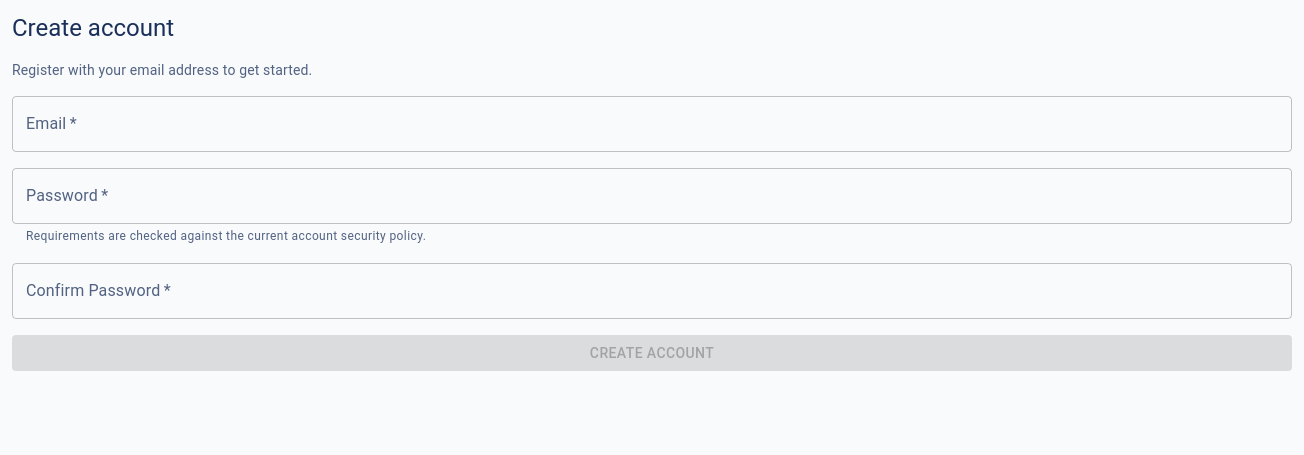
Register › uses the shared safe fallback instead of rendering an unknown technical message
This screenshot has width=1304, height=455.
Type "new@example.com" into the field labelled "Email *" at (652, 124), box top-left (12, 96), bottom-right (1292, 152)
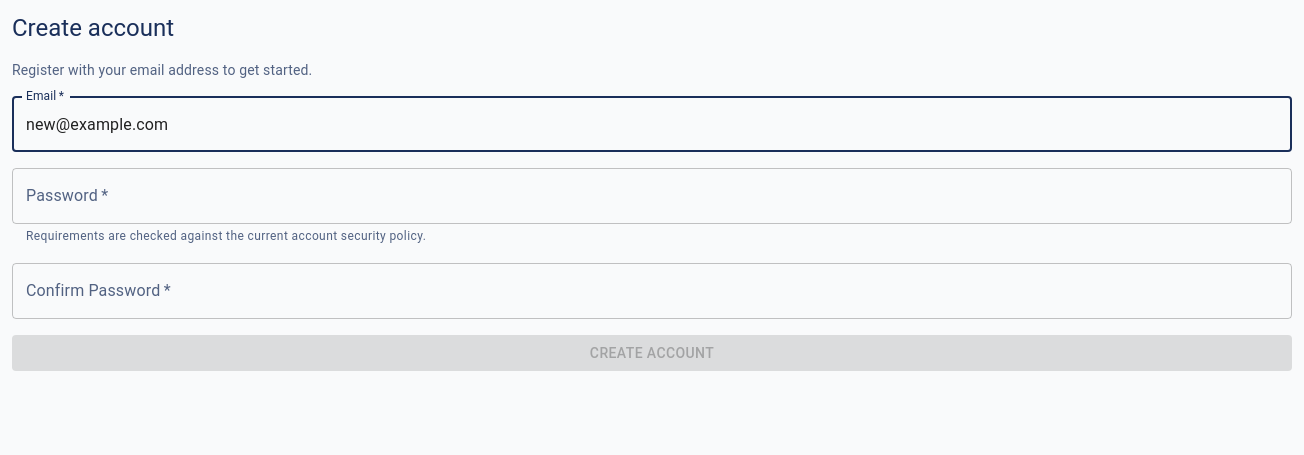
Type "compliant-password" into the password field labelled "Password *" at (652, 196), box top-left (12, 168), bottom-right (1292, 224)
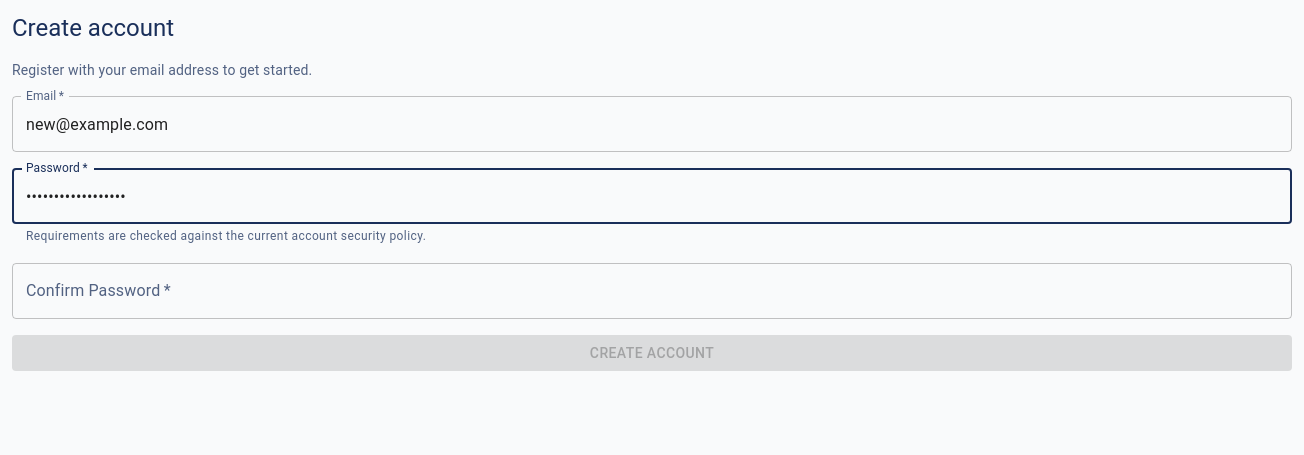
Type "compliant-password" into the password field labelled "Confirm Password *" at (652, 291), box top-left (12, 263), bottom-right (1292, 319)
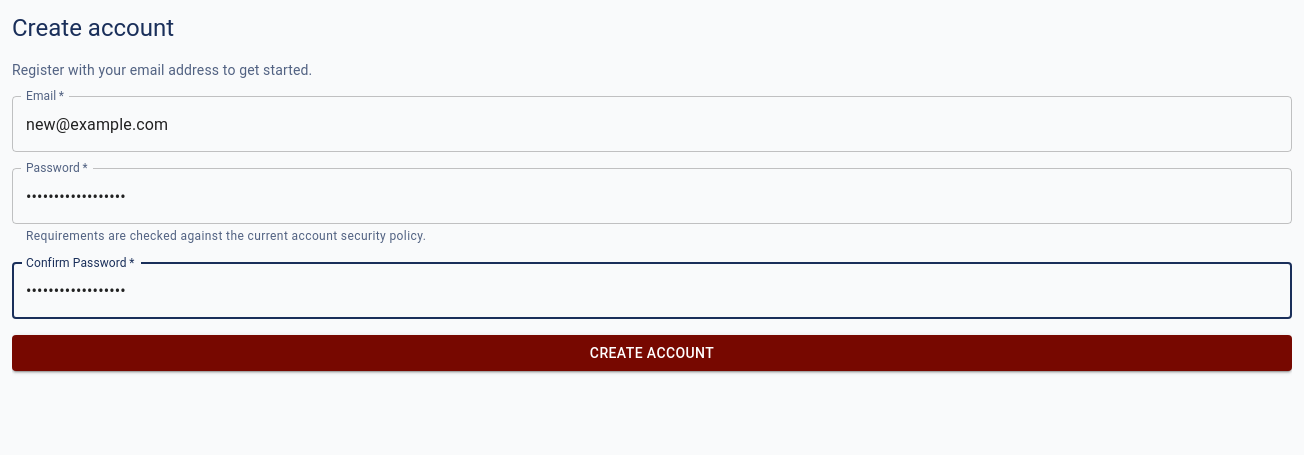
Click the button "Create account" at (652, 353), box top-left (12, 335), bottom-right (1292, 371)
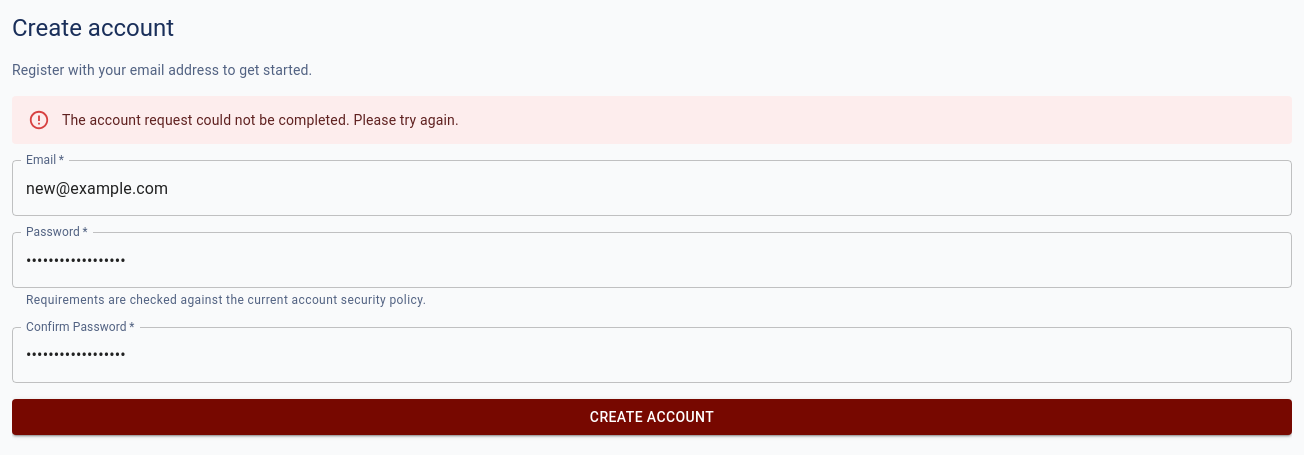
Now the text "The account request could not be completed. Please try again." is shown, box top-left (62, 112), bottom-right (459, 128)
